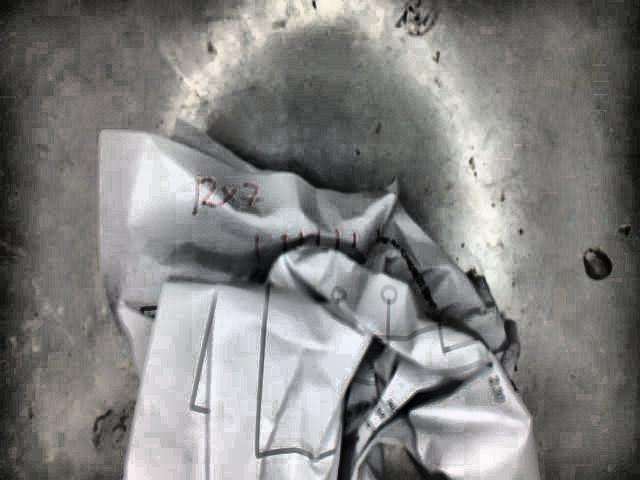Paper: (74, 113, 570, 480)
